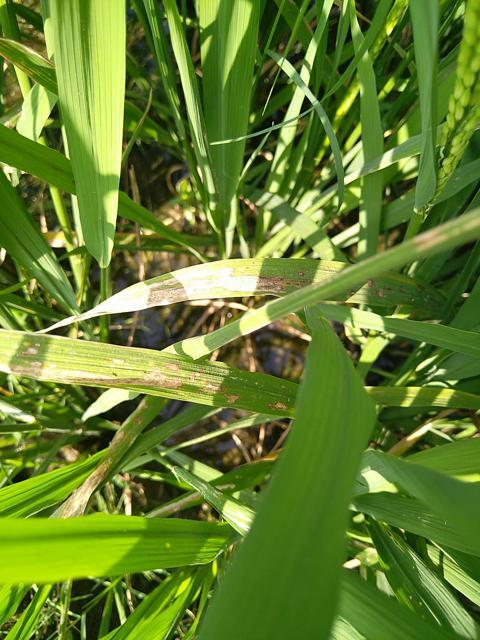Leaf Streak: (0, 336, 291, 409), (38, 258, 313, 334), (50, 396, 165, 519), (0, 37, 58, 97), (367, 280, 427, 301), (348, 285, 364, 299)
